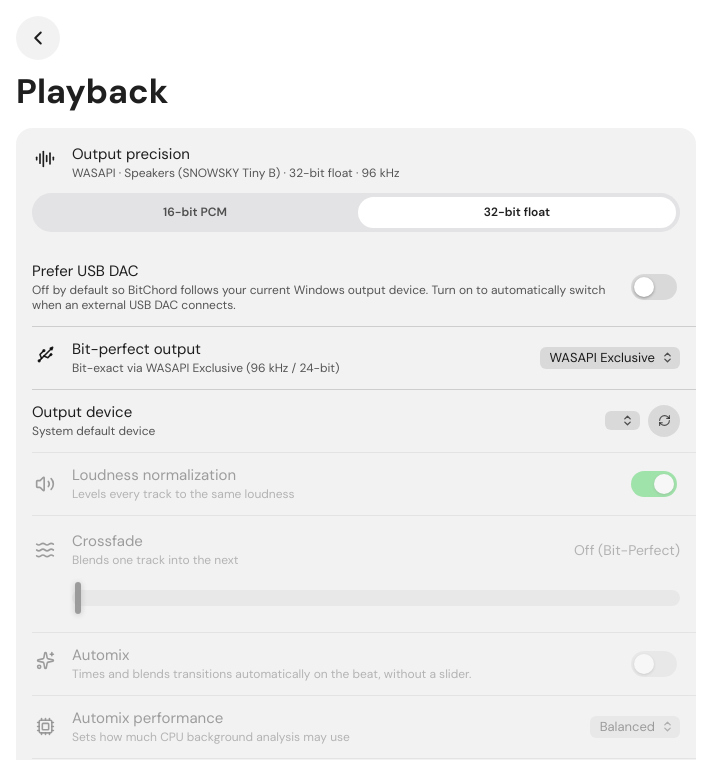
Scenario: Bit-Perfect DSP & control locking › locks bypassed settings in PlaybackSettingsPage and restores them when returning to shared mode
Expected: the element named "Crossfade duration in seconds" is disabled, [16, 515, 696, 632]
Step 1. Click the button "WASAPI Exclusive" → {"x": 610, "y": 358}, box [540, 346, 680, 368]
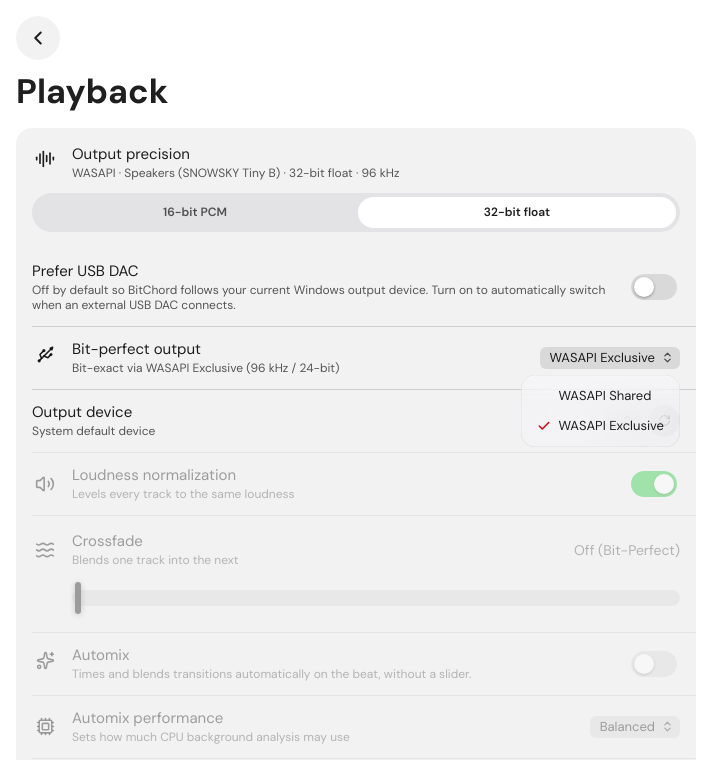
Expected: the menu item "WASAPI Shared" is shown
Step 2. Click the menu item "WASAPI Shared" → {"x": 600, "y": 396}, box [527, 380, 674, 410]
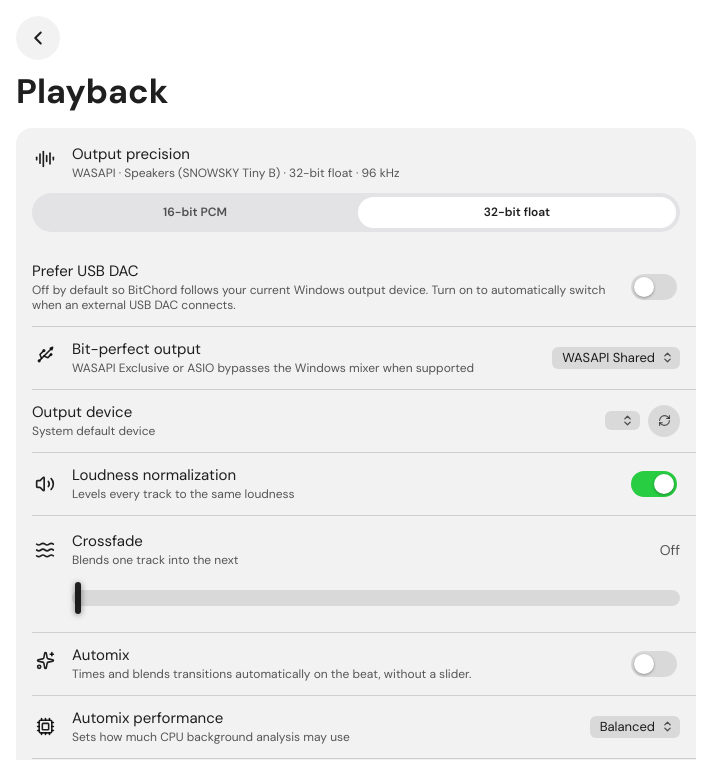
Expected: the element named "Crossfade duration in seconds" is enabled, [16, 515, 696, 632]
